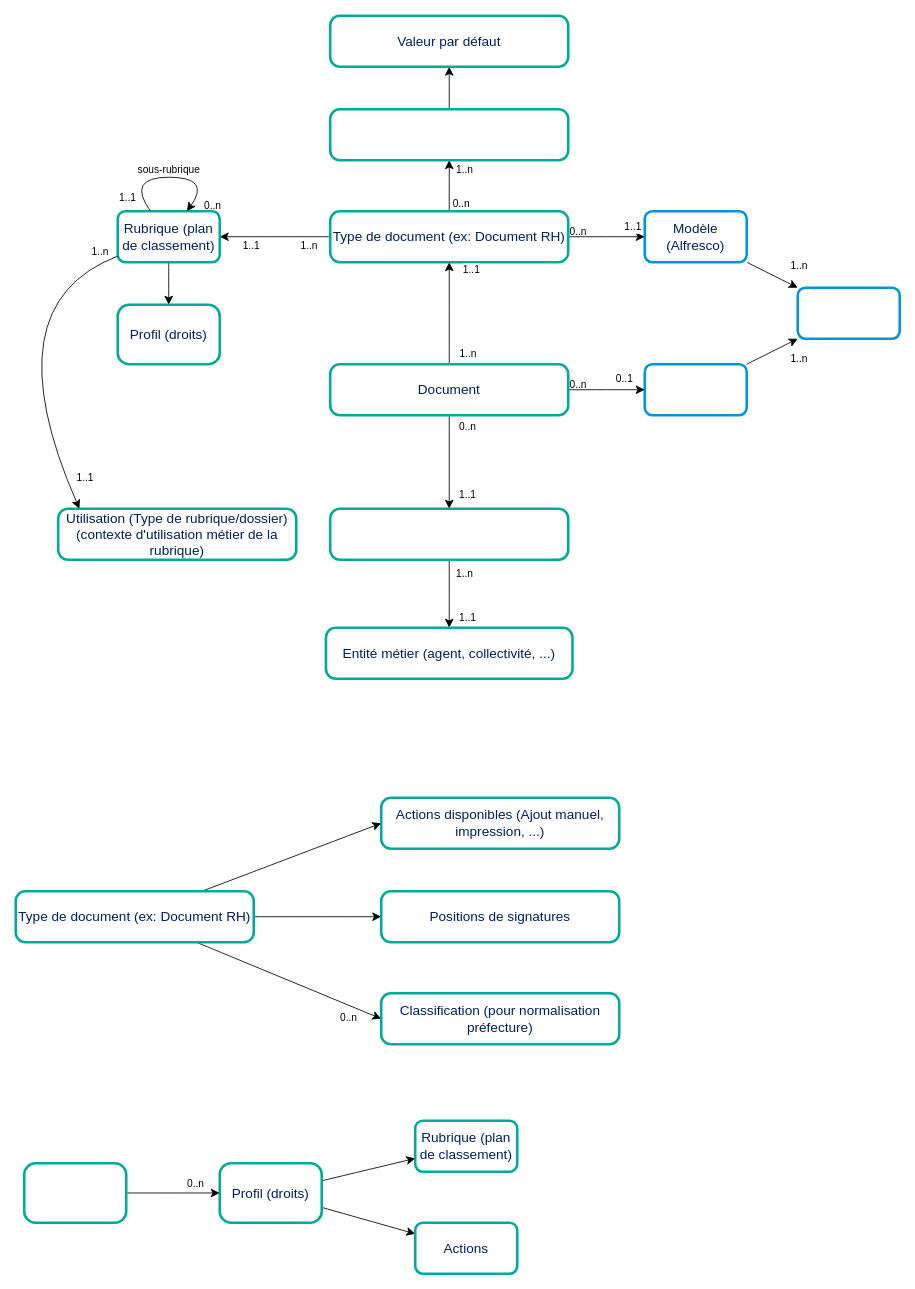
This 915x1289 diagram has some shape labels left out. Each missing label, with the box of its shape:
Aspect (Alfresco): (643, 363, 748, 416)
Dossier: (329, 507, 569, 561)
Metadonnée: (329, 108, 569, 161)
Metadonnée (Alfresco): (796, 286, 901, 340)
Utilisateur: (23, 1162, 127, 1224)
